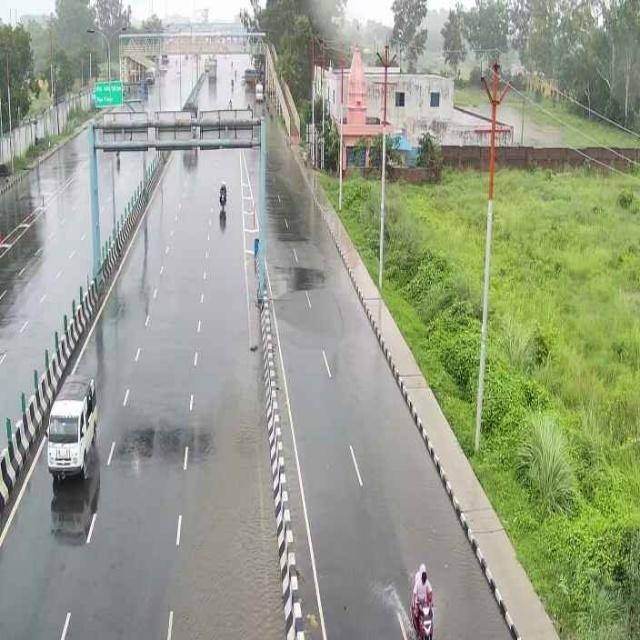car: (41, 366, 104, 505)
